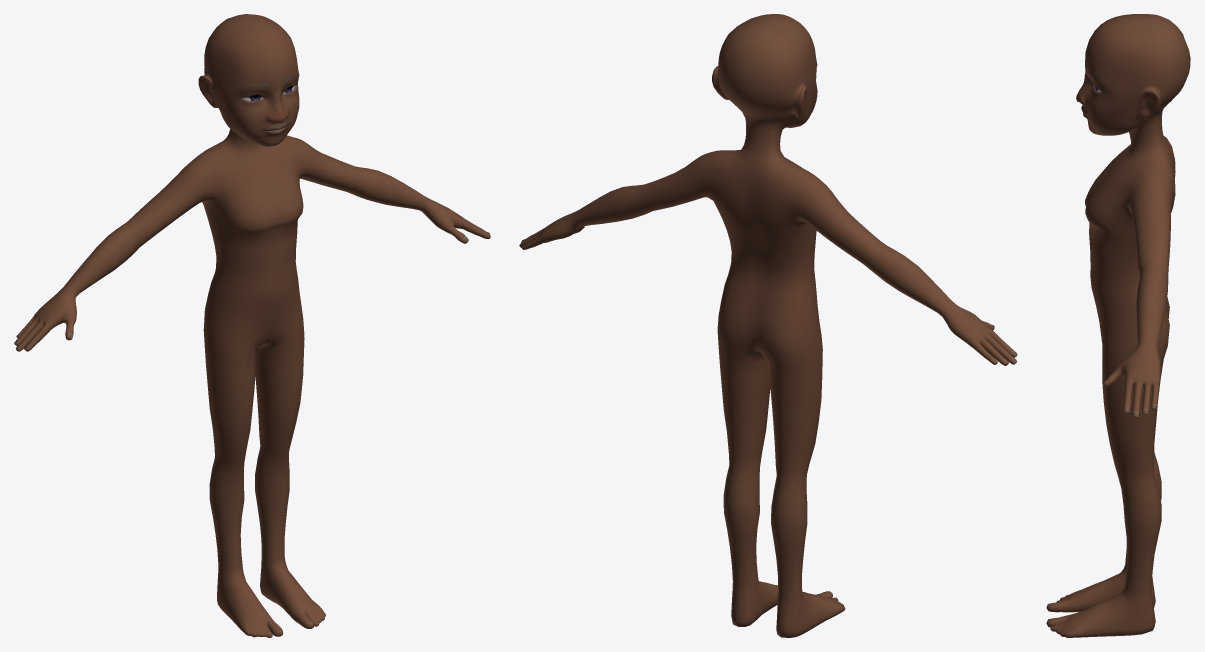
The model's file is frame_0069.glb.
3 renders of one model, left to right at view 1: azimuth 30°, elevation 25°; view 2: azimuth 150°, elevation 25°; view 3: azimuth 270°, elevation 25°, orthographic. The views are drawn at different scales.
Visible parts, largest first — view 1: frame_0069_head_geo; view 2: frame_0069_head_geo; view 3: frame_0069_head_geo.
Boxes of the visible parts, <box> form: frame_0069_head_geo: <box>14,14,490,637</box>; frame_0069_head_geo: <box>519,14,1017,637</box>; frame_0069_head_geo: <box>1046,14,1190,637</box>.
Size of the model in its own units: 1.28 by 1.5 by 0.3253.
Materials: 3 (3 with a texture image).
